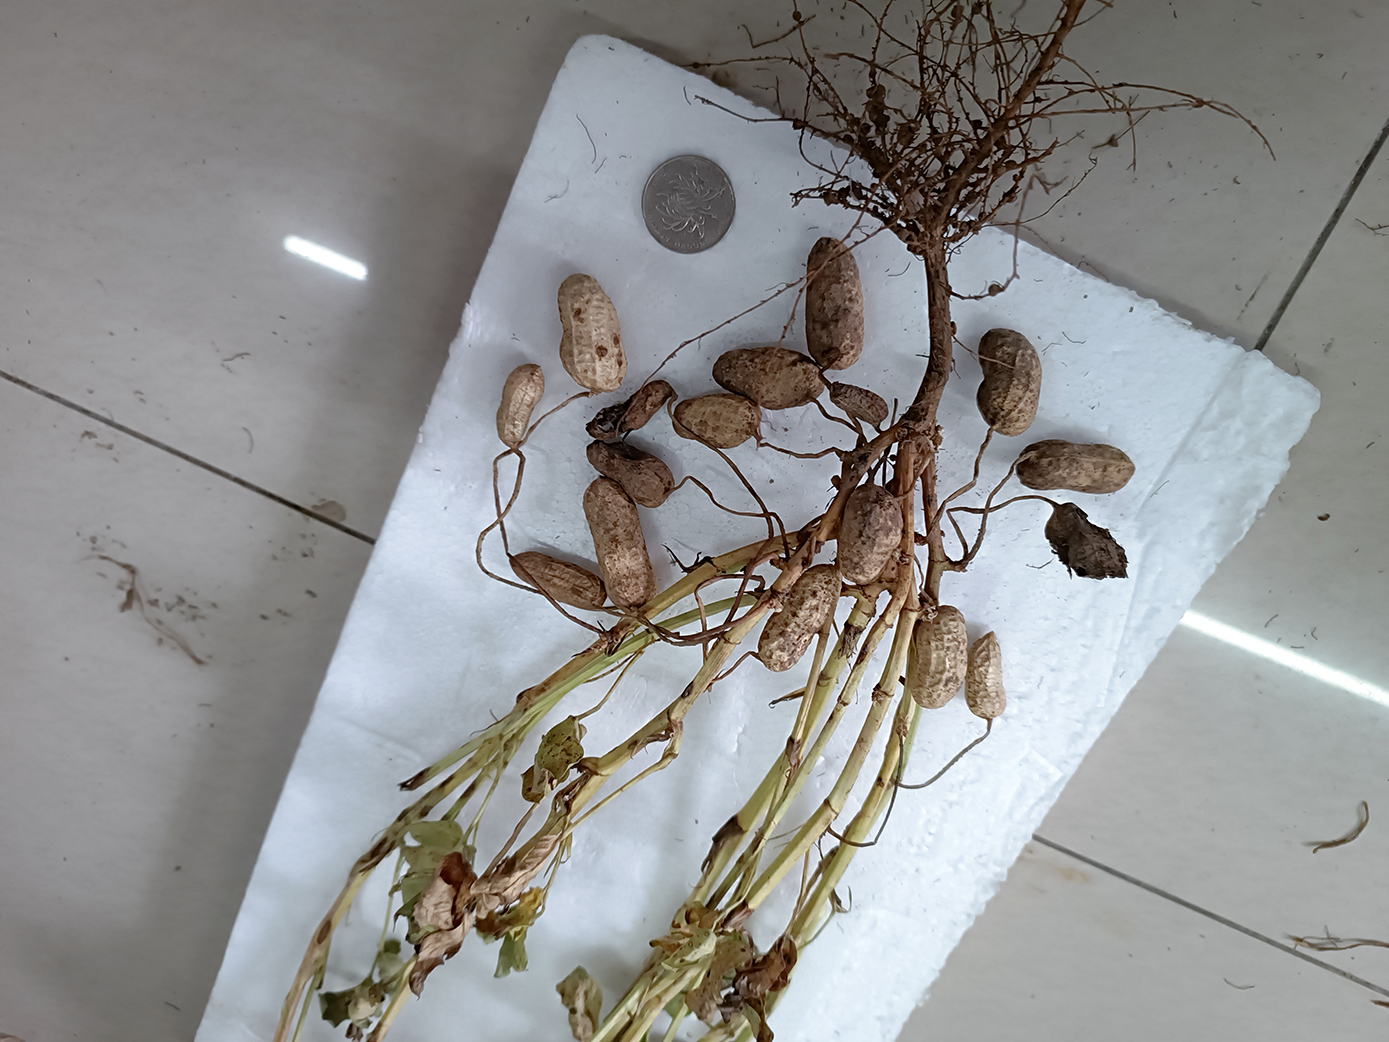h: (583, 473, 657, 609), (557, 273, 627, 394), (976, 328, 1043, 437), (1015, 439, 1136, 495), (838, 483, 903, 586), (906, 604, 966, 710), (672, 393, 762, 449), (495, 363, 545, 452), (963, 629, 1007, 718)
l: (757, 563, 844, 673), (805, 238, 864, 371), (711, 348, 825, 412), (1044, 502, 1128, 580), (587, 439, 675, 510), (584, 379, 678, 443), (509, 552, 606, 612), (829, 380, 890, 425)
